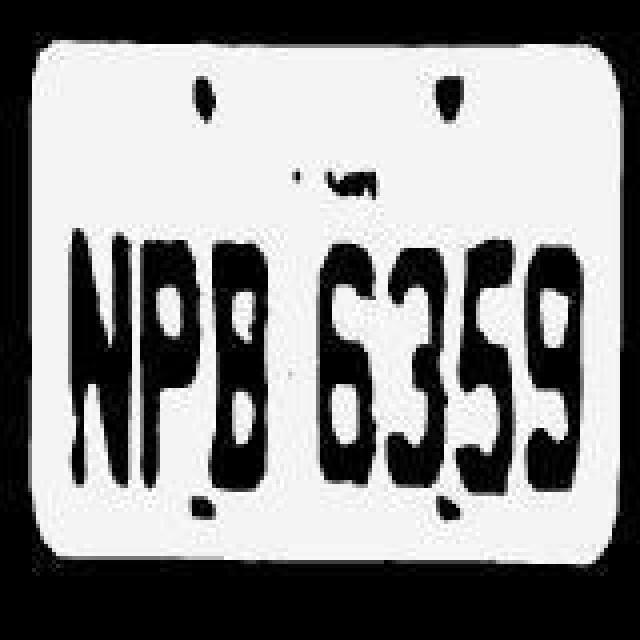3: (382, 244, 450, 492)
5: (454, 226, 522, 494)
6: (308, 234, 380, 486)
9: (516, 220, 588, 500)
B: (204, 238, 284, 498)
N: (58, 226, 134, 486)
P: (136, 228, 208, 492)
